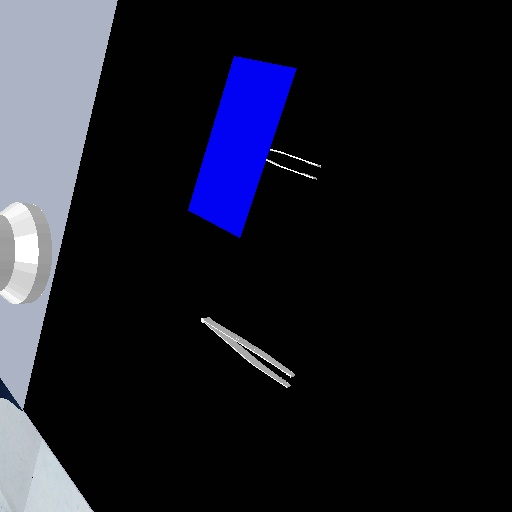pinza: (196, 313, 300, 390), (263, 146, 328, 183)
